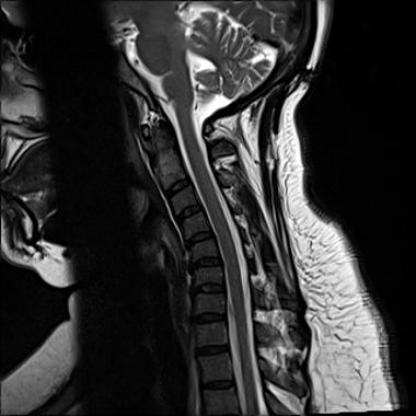Disc Bulgerotation: (189, 251, 223, 270), (182, 227, 214, 245)
